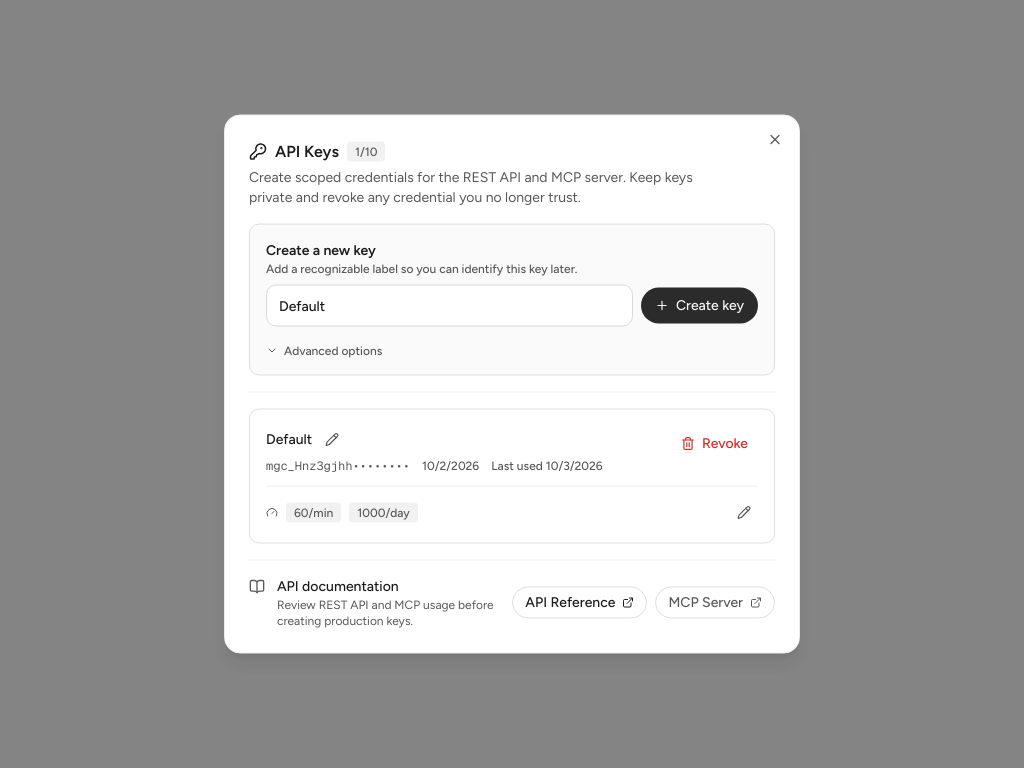
Test: creating a key › checks Per min = 0 the way the contract does, and sends nothing
Click the button "Advanced options" at (324, 350), box [266,342,382,358]
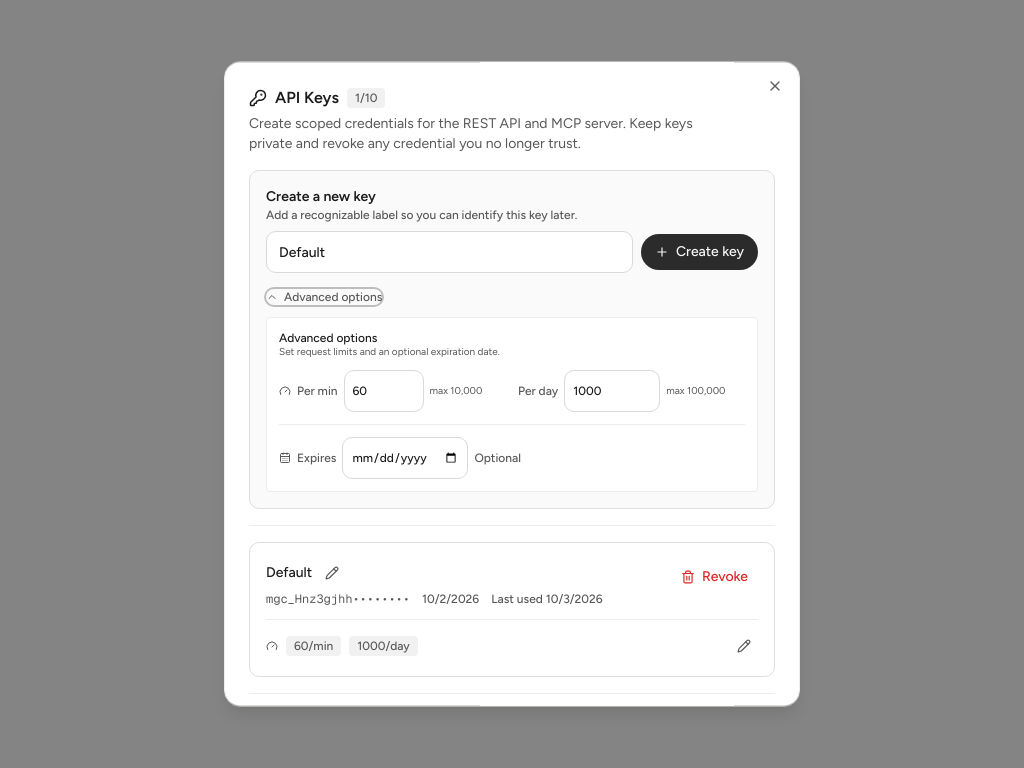
Replace the text in the number field labelled "Per min" with "0" at (384, 391), box [344,370,424,412]
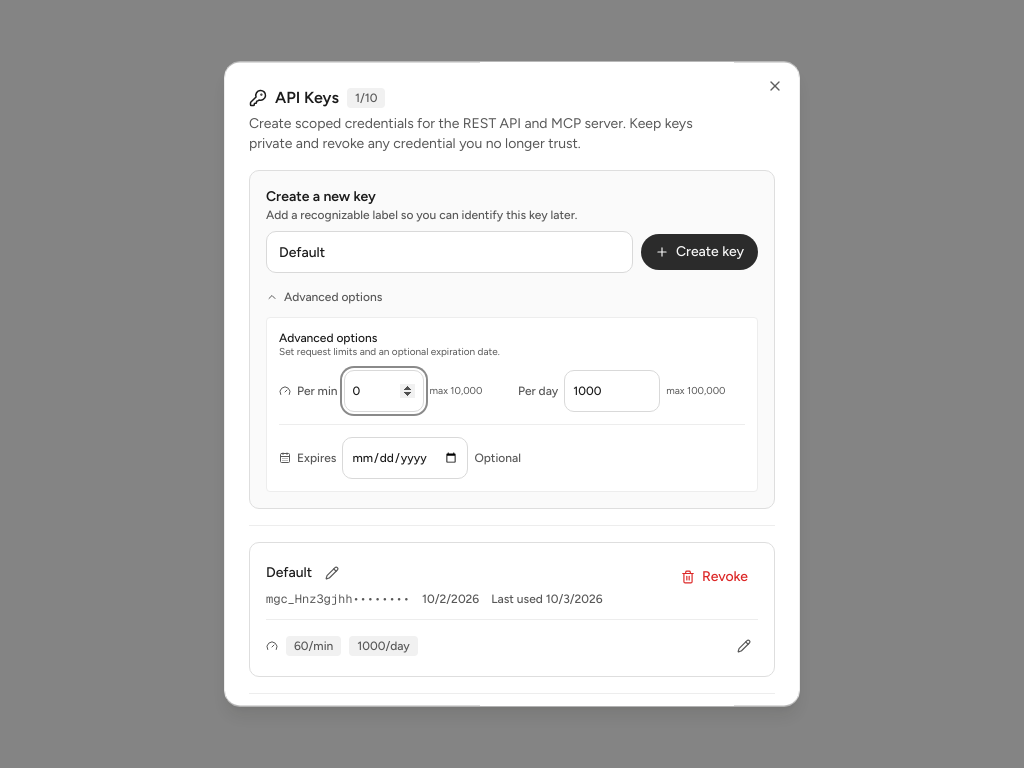
Click the button "Create key" at (699, 252), box [641,234,758,270]
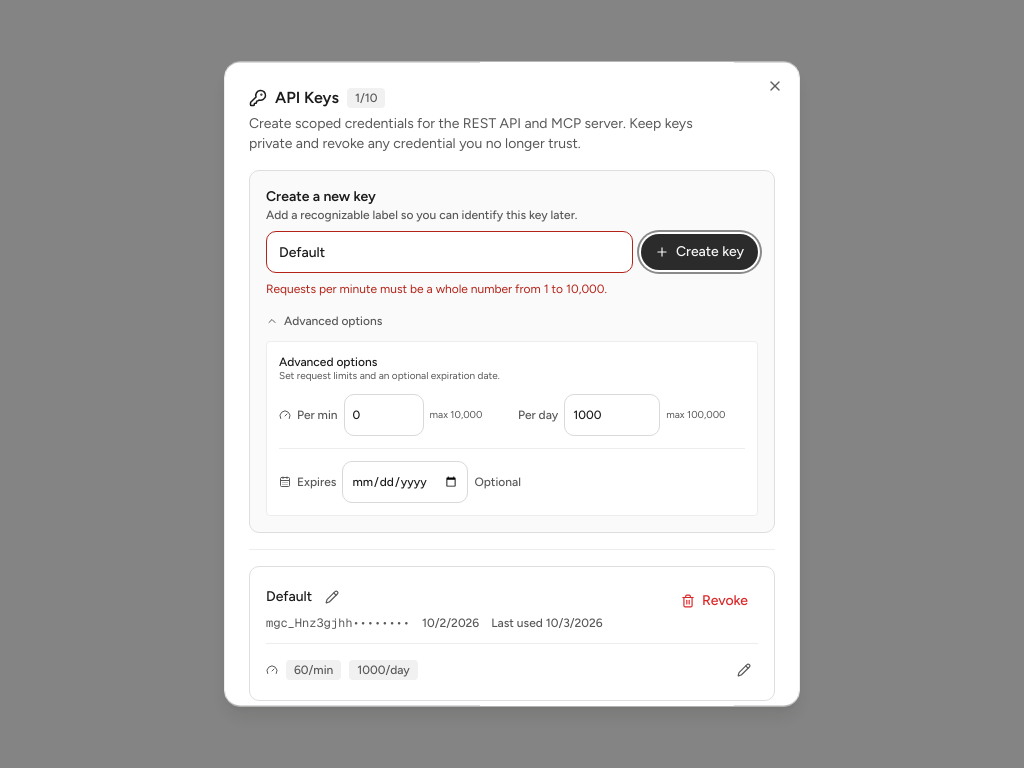
Now the message reads "Requests per minute must be a whole number from 1 to 10,000.", box [266,282,607,296]
